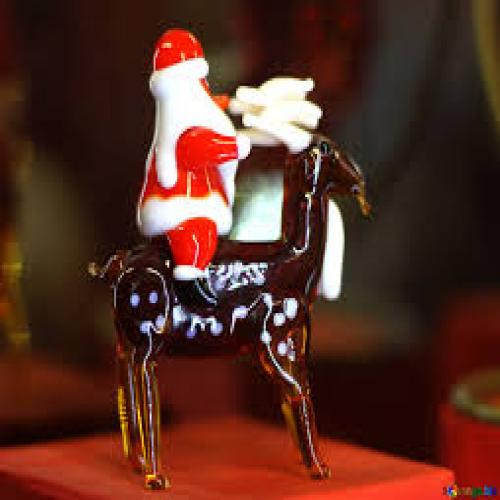Santa: (137, 29, 249, 281)
